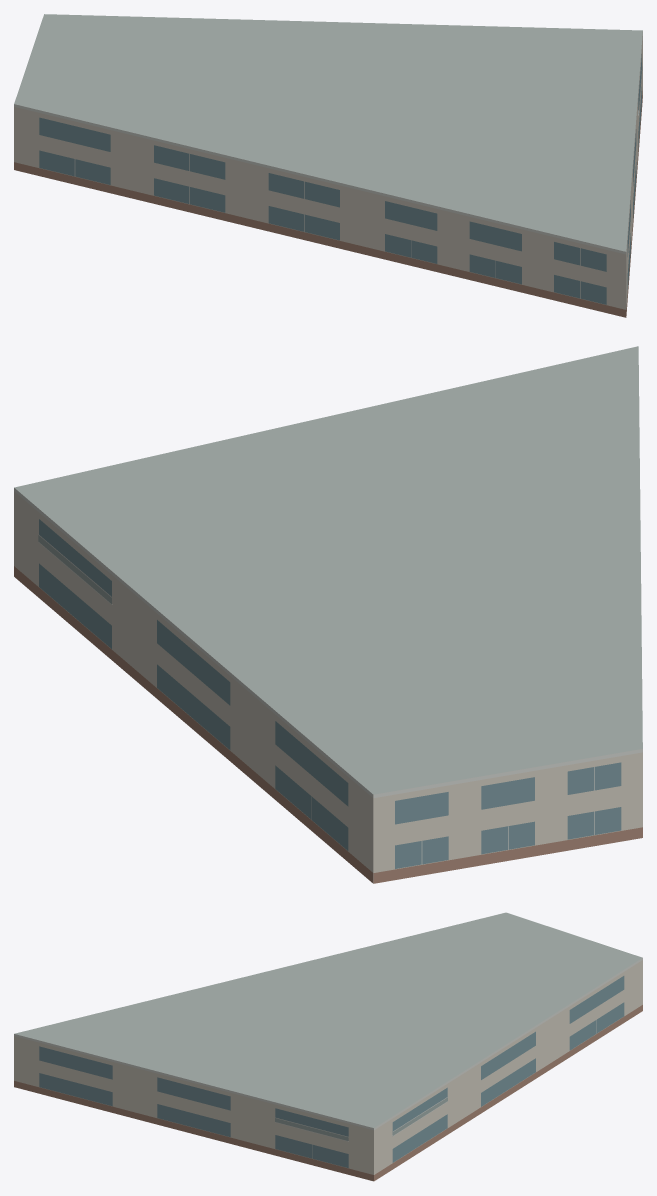
File: residential-0d948ef5-60f2-4be9-80ba-a40e5ad36ea7.glb
3 renders of one model, top to bottom at view 1: azimuth 30°, elevation 25°; view 2: azimuth 150°, elevation 25°; view 3: azimuth 270°, elevation 25°, orthographic. The views are drawn at different scales.
Visible parts, largest first — view 1: residential-0d948ef5-60f2-4be9-80ba-a40e5ad36ea7.tmp; view 2: residential-0d948ef5-60f2-4be9-80ba-a40e5ad36ea7.tmp; view 3: residential-0d948ef5-60f2-4be9-80ba-a40e5ad36ea7.tmp.
Boxes of the visible parts, <box> form: residential-0d948ef5-60f2-4be9-80ba-a40e5ad36ea7.tmp: <box>14,14,642,317</box>; residential-0d948ef5-60f2-4be9-80ba-a40e5ad36ea7.tmp: <box>14,346,642,883</box>; residential-0d948ef5-60f2-4be9-80ba-a40e5ad36ea7.tmp: <box>14,912,642,1181</box>.
Bounding box in the file's own units: 52.98 × 6.1 × 65.27.
